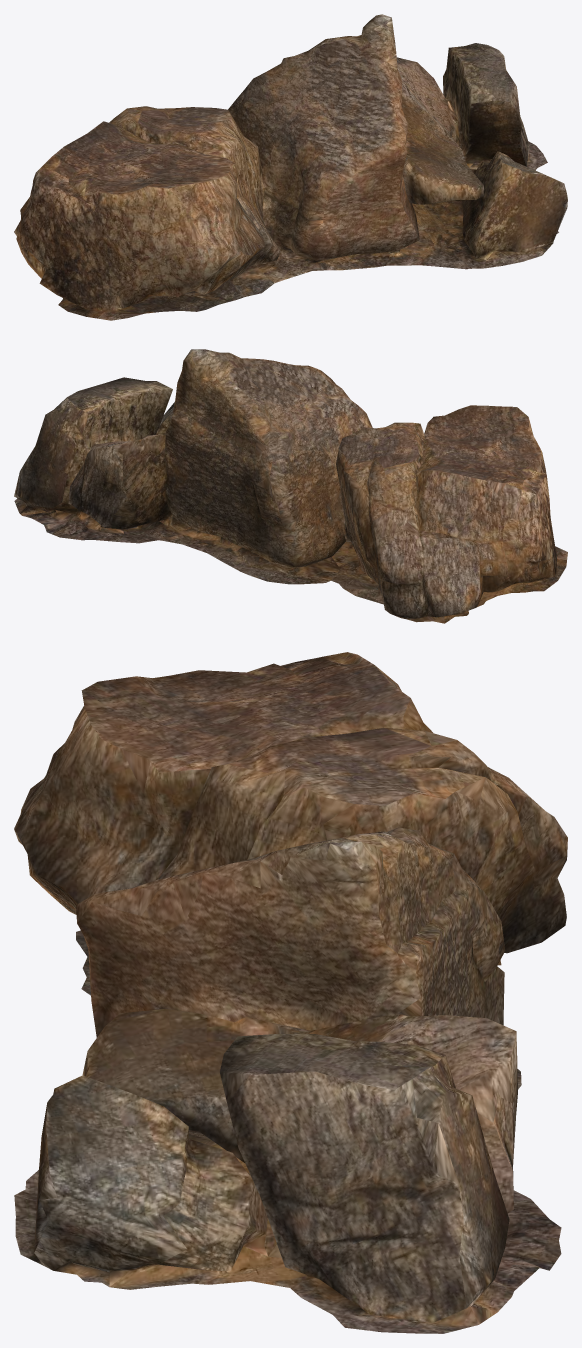
The model's file is namaqualand_boulder_02.glb.
The picture shows the model from 3 angles, top to bottom: view 1: azimuth 30°, elevation 25°; view 2: azimuth 150°, elevation 25°; view 3: azimuth 270°, elevation 25°; orthographic projection. The views are drawn at different scales.
Visible parts, largest first — view 1: boulder_02; view 2: boulder_02; view 3: boulder_02.
Part boxes in pixels (x1,y1,x2,y2): boulder_02: (14, 14, 567, 320); boulder_02: (14, 349, 567, 623); boulder_02: (14, 652, 567, 1333).
Bounding box in the file's own units: 2.52 × 0.8745 × 1.22.
Materials: 1 (1 with a texture image).
